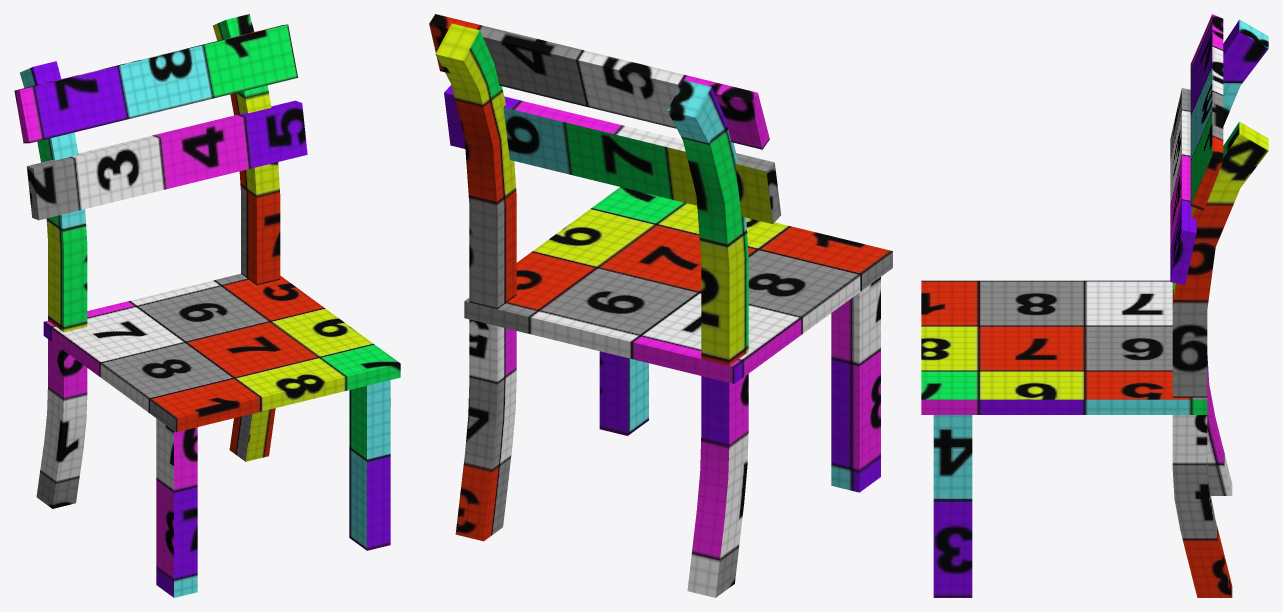
File: EN_P_Chair_01_19G5S.fbx
3 views of the same model, side by side, from view 1: azimuth 30°, elevation 25°; view 2: azimuth 150°, elevation 25°; view 3: azimuth 270°, elevation 25° (orthographic). The views are drawn at different scales.
Visible parts, largest first — view 1: chair_LP; view 2: chair_LP; view 3: chair_LP.
Part boxes in pixels (x1=…): chair_LP: x1=14, y1=14, x2=400, y2=597; chair_LP: x1=429, y1=14, x2=892, y2=597; chair_LP: x1=921, y1=14, x2=1268, y2=597.
Size of the model in its own units: 74.82 by 114 by 77.3.
1 material, 1 textured.
